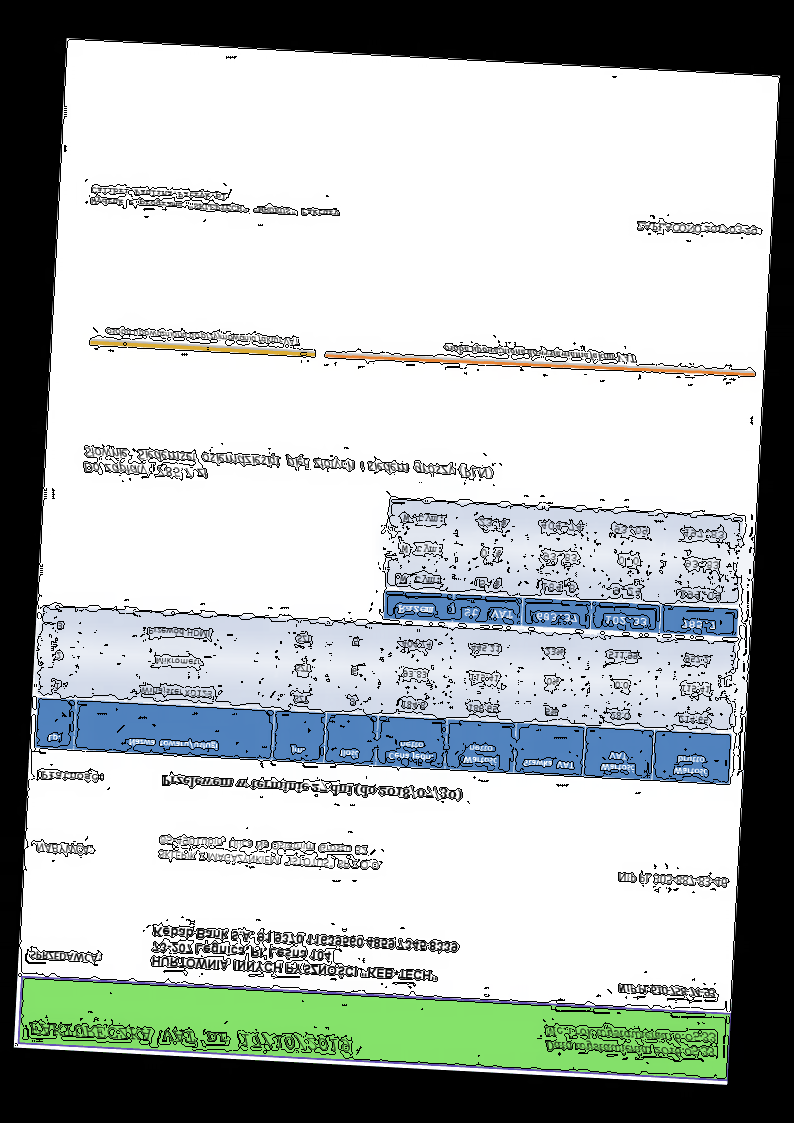Table: (33, 604, 738, 787), (381, 497, 745, 638)
TextBox: (80, 444, 495, 498), (148, 922, 461, 987), (26, 1018, 352, 1055), (159, 772, 463, 805), (156, 831, 385, 874), (88, 184, 343, 220), (541, 1020, 719, 1063), (104, 323, 303, 349), (441, 342, 638, 366), (633, 217, 758, 239), (614, 869, 729, 891), (616, 981, 718, 1001), (27, 948, 103, 967), (38, 768, 106, 786), (34, 841, 94, 859)
